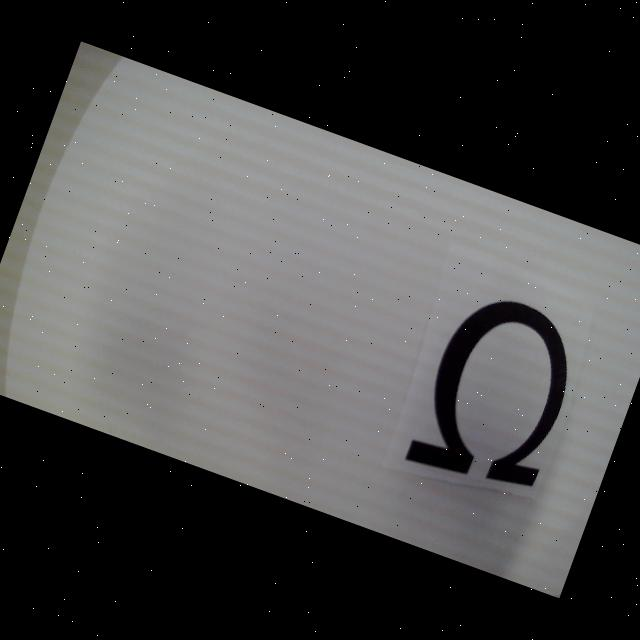OMEGA: (406, 284, 592, 504)
